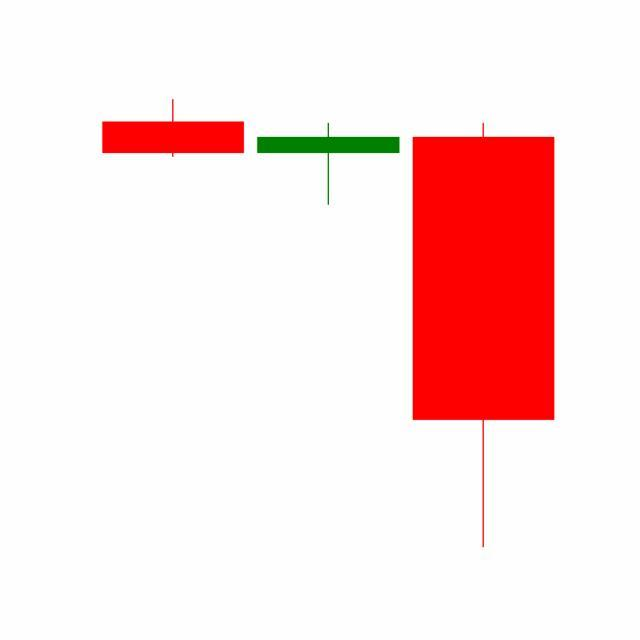Dragonfly Doji: (250, 123, 407, 207)
